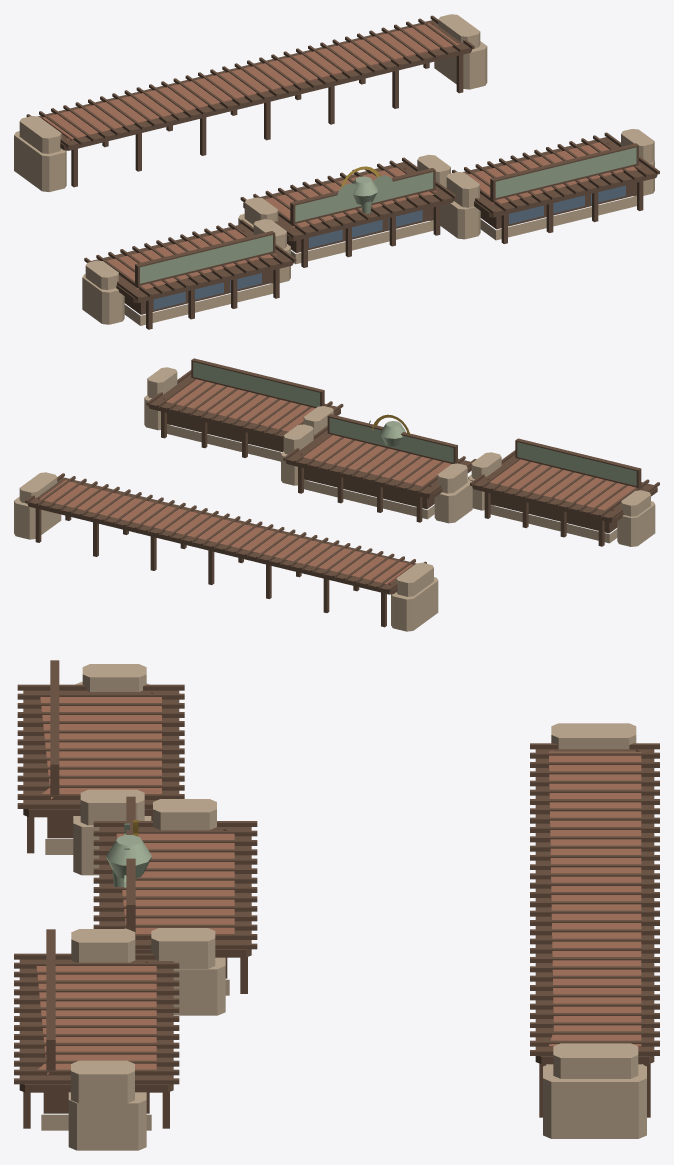
The model's file is wdw-ak-entrance.glb.
The picture shows the model from 3 angles, top to bottom: view 1: azimuth 30°, elevation 25°; view 2: azimuth 150°, elevation 25°; view 3: azimuth 270°, elevation 25°; orthographic projection. The views are drawn at different scales.
Visible parts, largest first — view 1: Disney's Animal Kingdom Entrance; view 2: Disney's Animal Kingdom Entrance; view 3: Disney's Animal Kingdom Entrance.
Part boxes in pixels (box(x1,y1,x2,y2)): Disney's Animal Kingdom Entrance: box(14, 14, 659, 329); Disney's Animal Kingdom Entrance: box(14, 358, 659, 631); Disney's Animal Kingdom Entrance: box(14, 660, 659, 1150).
Size of the model in its own units: 53.4 by 7.05 by 34.8.
